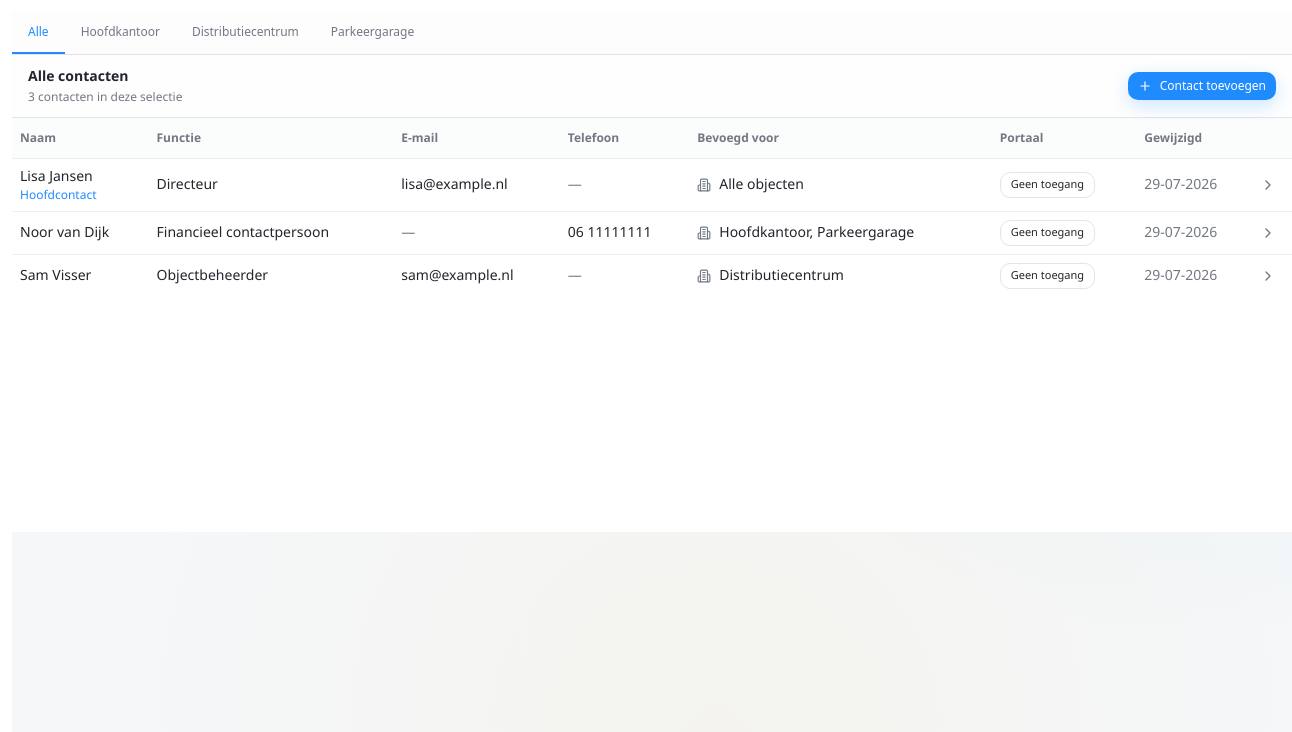
Test: ContactsTab › heet Contacten, toont geen adressen en filtert per klantobject
Expected: the button "Contact toevoegen" is shown, [1128, 72, 1276, 100]
Expected: the text "Lisa Jansen" is shown, [20, 166, 93, 186]
Click the tab "Distributiecentrum" at [245, 33], box [176, 12, 315, 54]
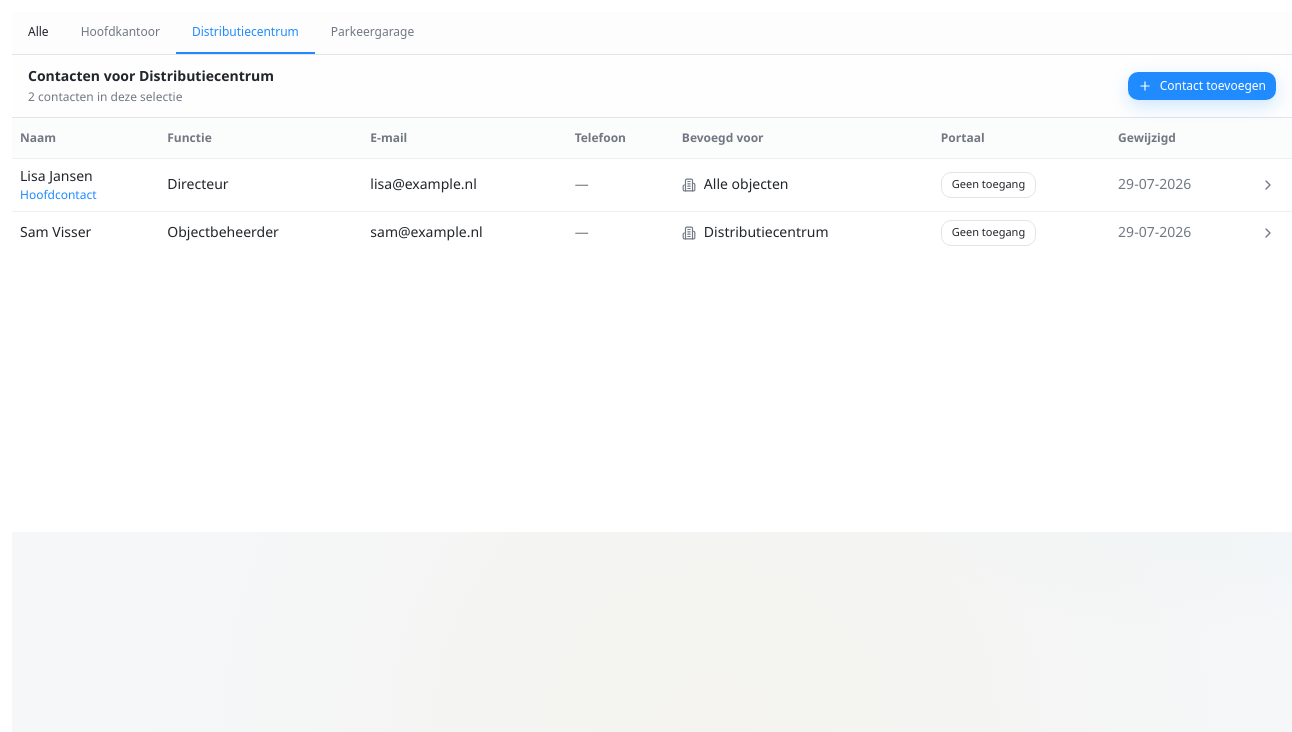
Expected: the text "Lisa Jansen" is shown, [20, 166, 93, 186]
Expected: the text "Noor van Dijk" is gone
Click the tab "Parkeergarage" at [372, 33], box [315, 12, 430, 54]
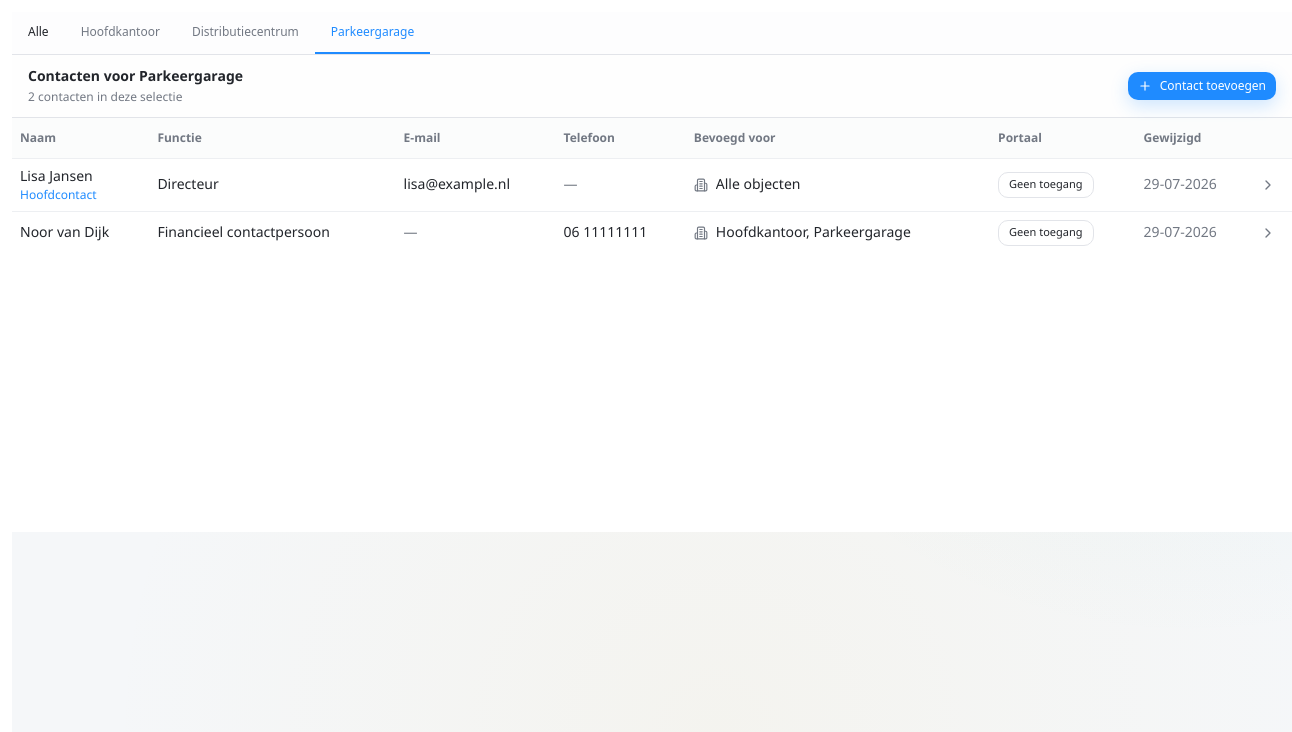
Expected: the text "Lisa Jansen" is shown, [20, 166, 93, 186]
Expected: the text "Noor van Dijk" is shown, [20, 222, 109, 242]
Expected: the text "Sam Visser" is gone
